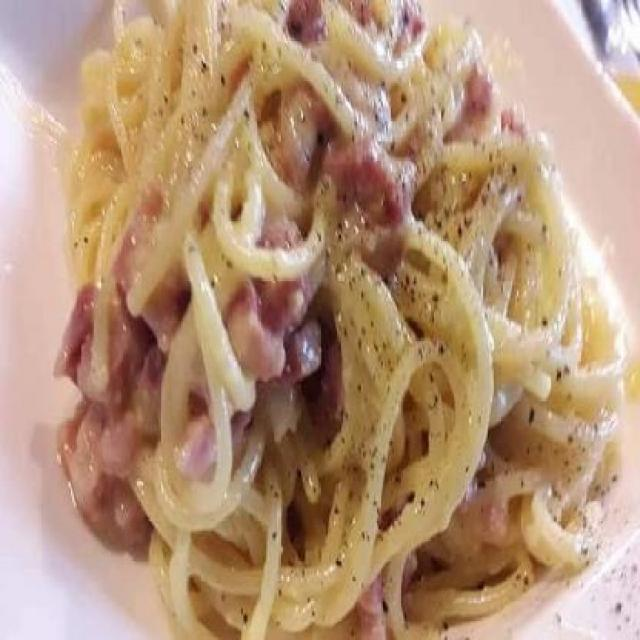Pasta with carbonara sauce: (56, 0, 610, 602)
